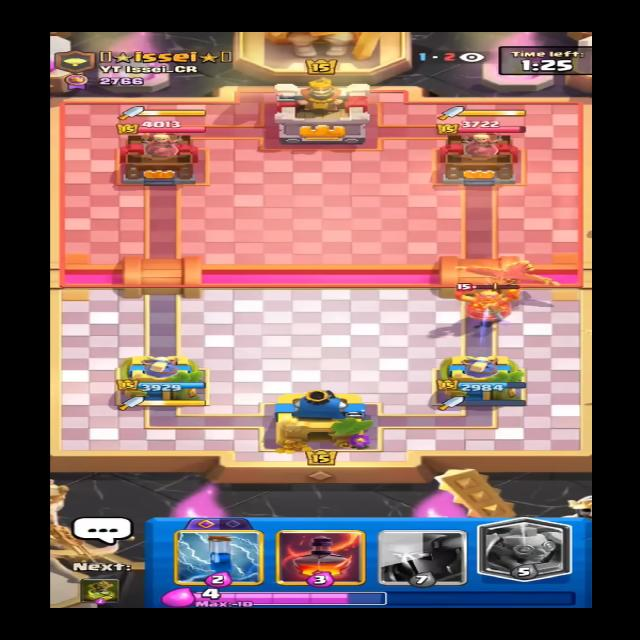goblin-demolisher: (446, 281, 528, 323)
